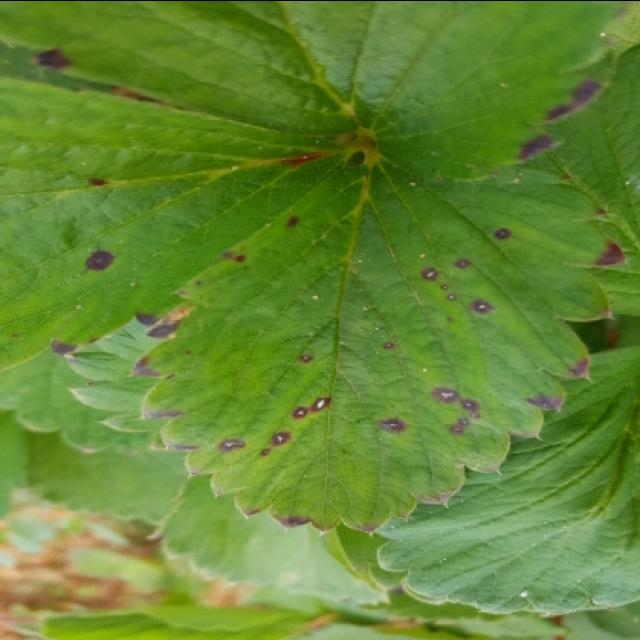Leaf Spot: (126, 146, 628, 537), (0, 75, 366, 374)
